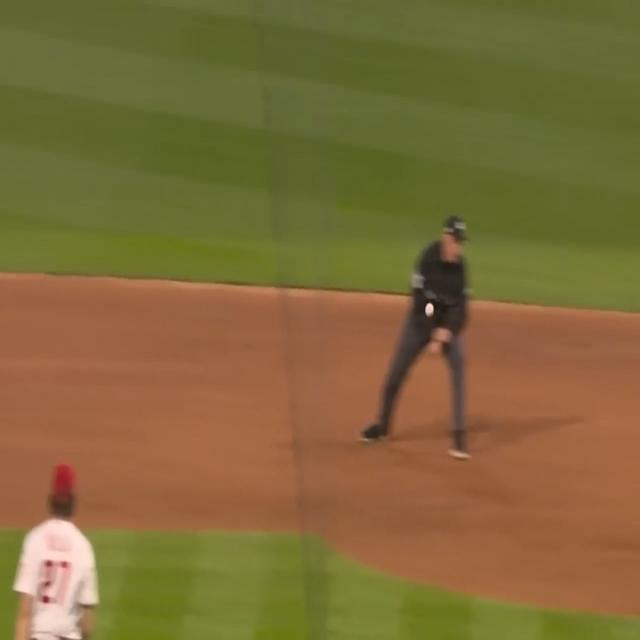baseball: (423, 300, 436, 320)
